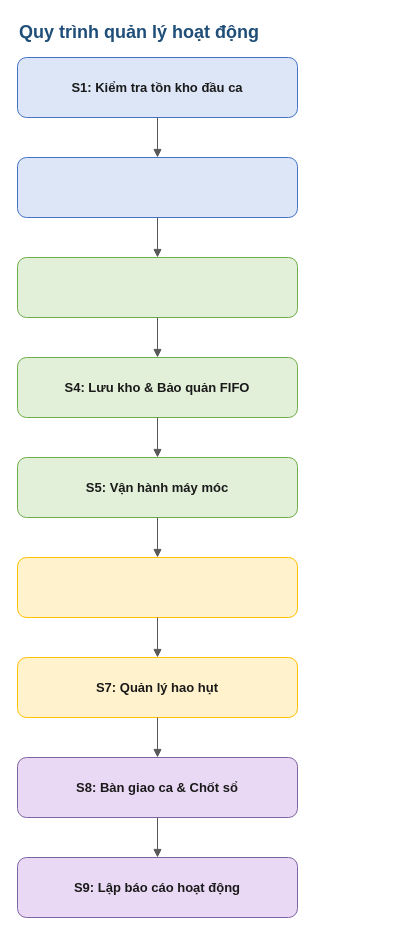
The diagram is 415 pixels wide and 935 high, and some of its shapes have lost their labels. The box of each missing label's shape, as (x1, y1, x2, y2) in pixels:
S2: Dự báo & Đặt hàng: (16, 156, 298, 218)
S3: Nhận & Kiểm tra hàng hóa: (16, 256, 298, 318)
S6: Duy trì vệ sinh ATTP: (16, 556, 298, 618)
